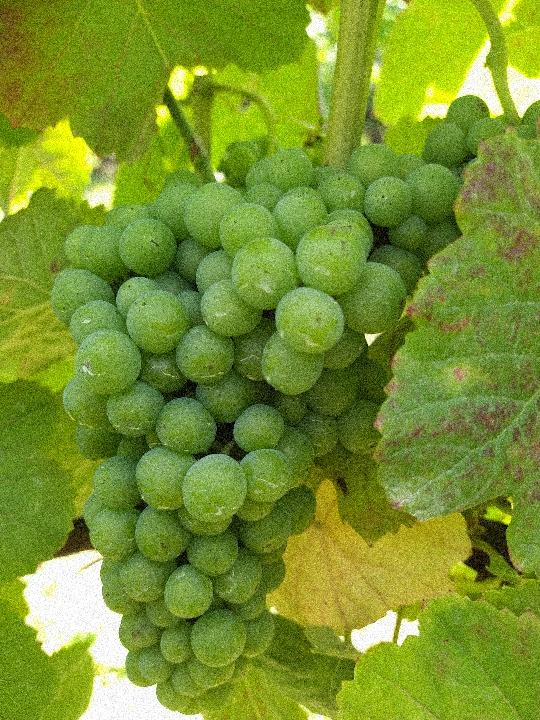grape: (48, 182, 404, 715)
